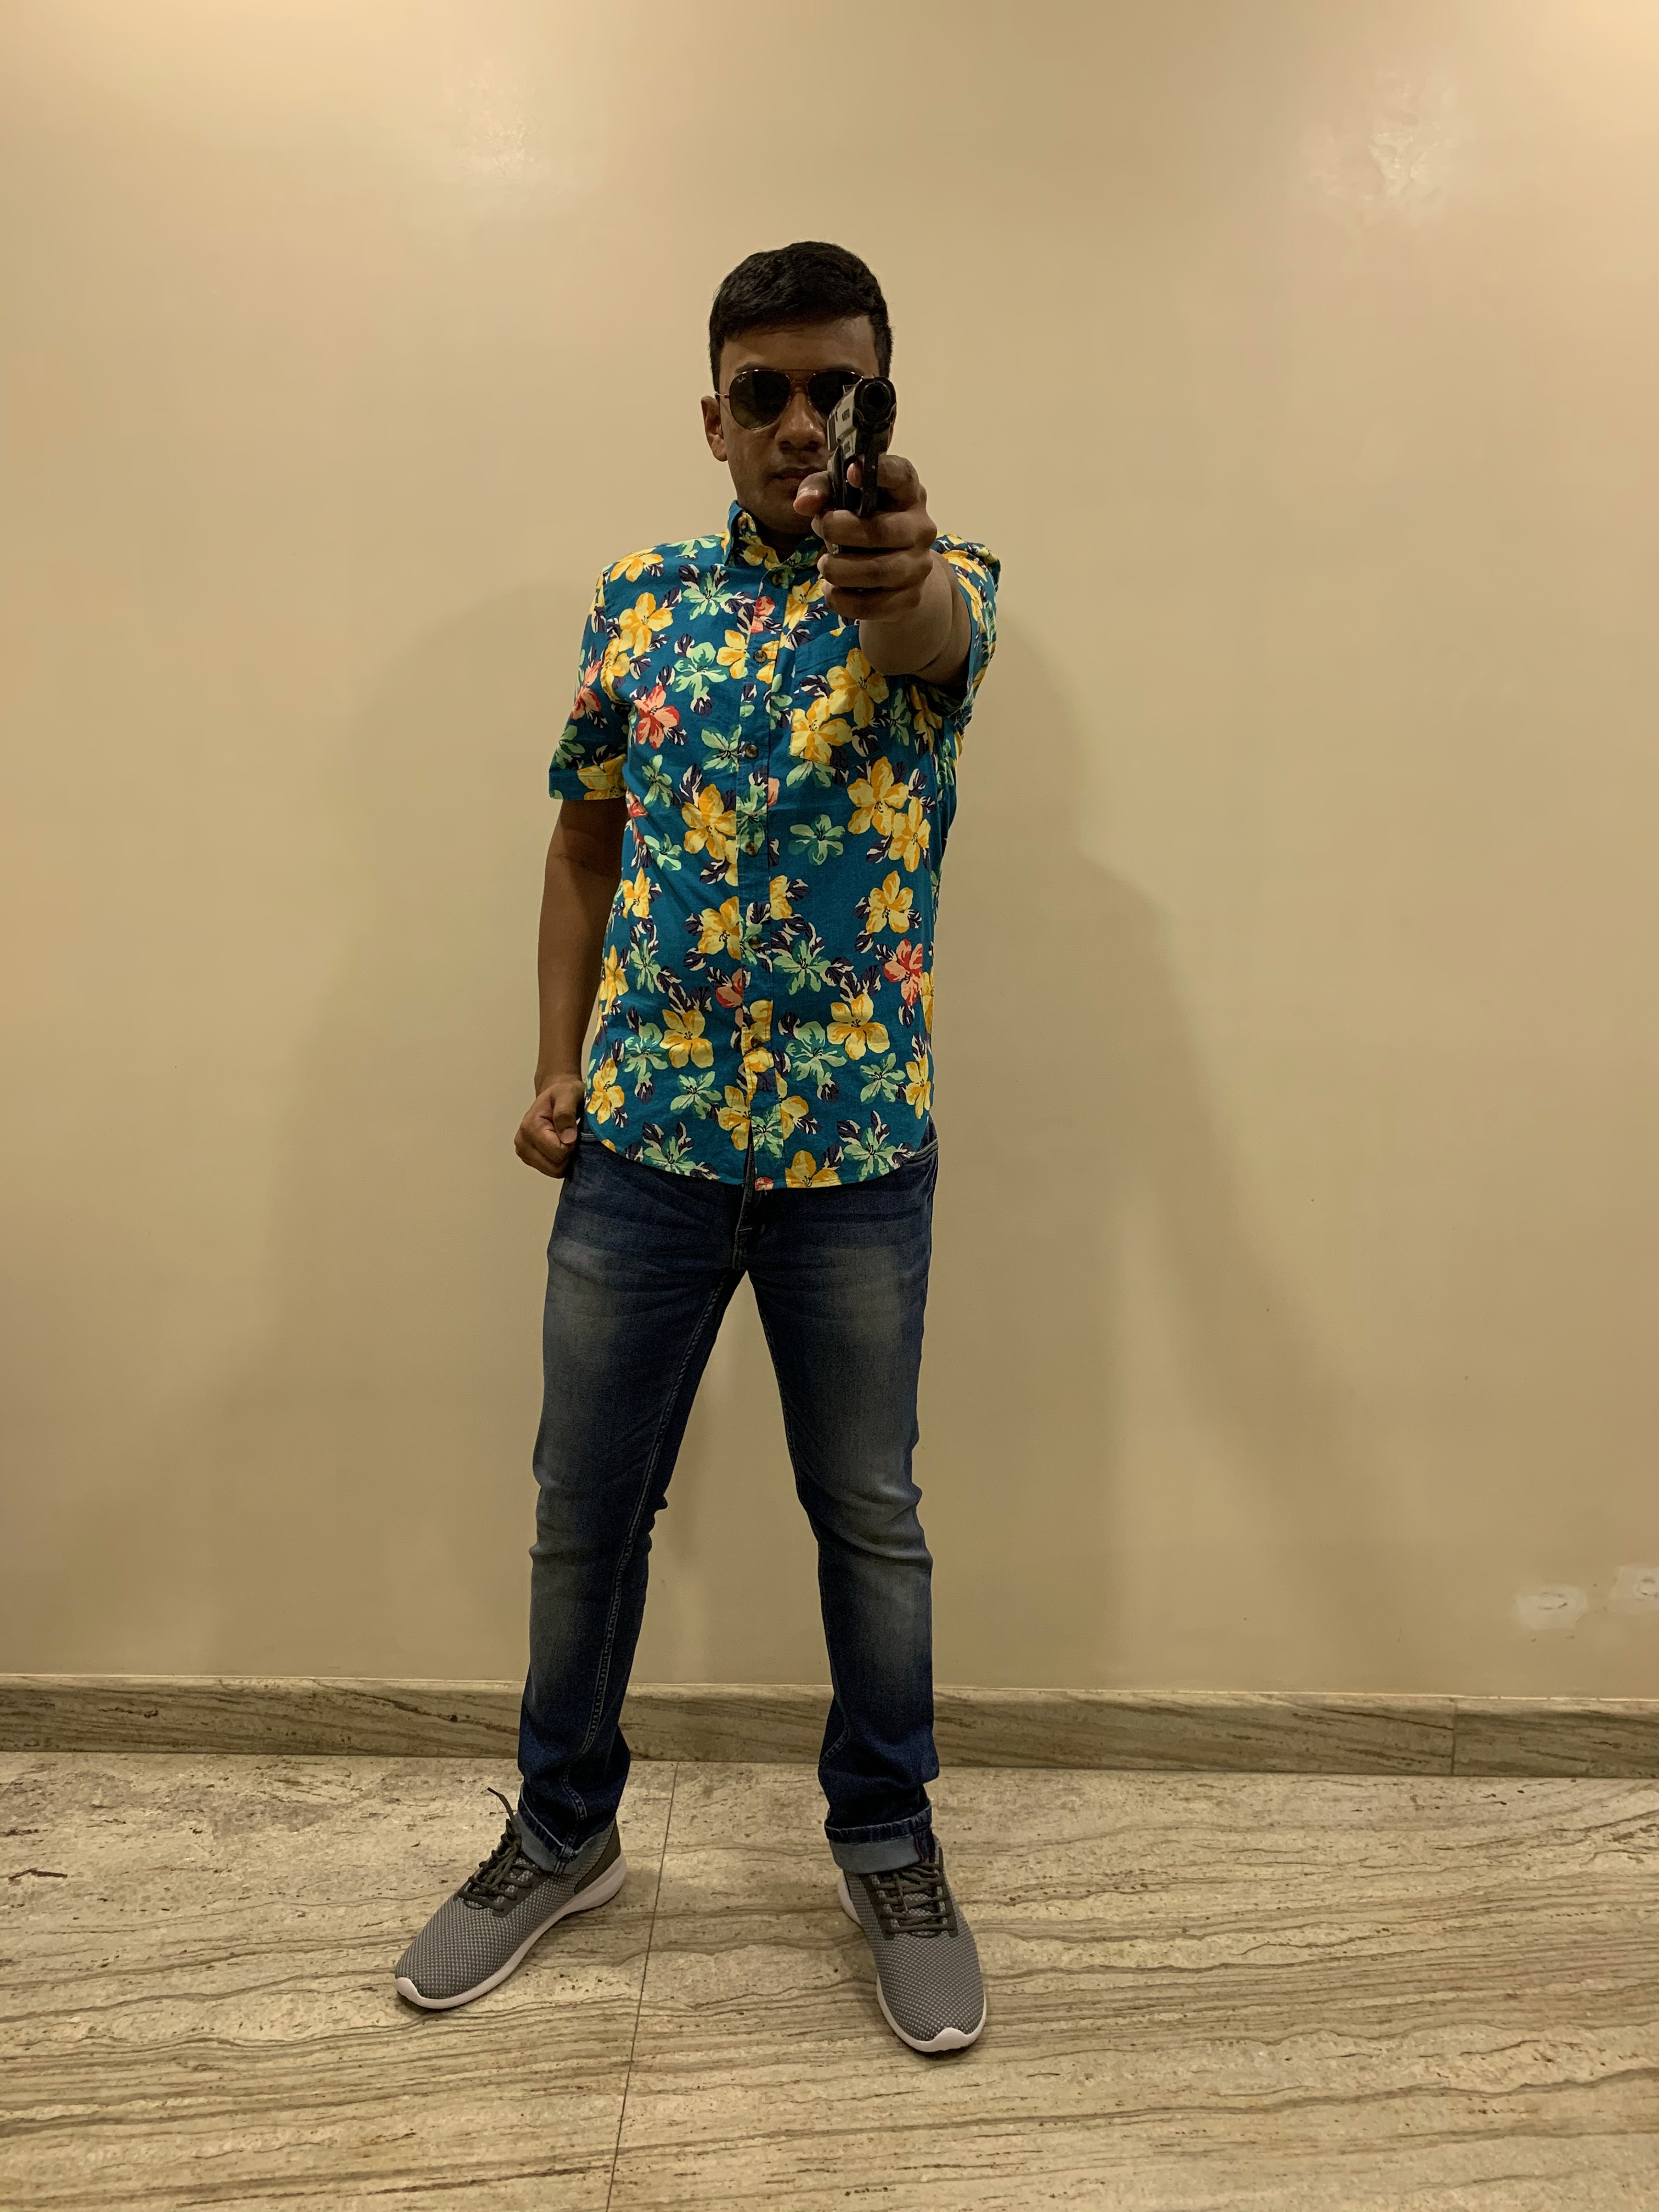gun: (819, 371, 906, 514)
